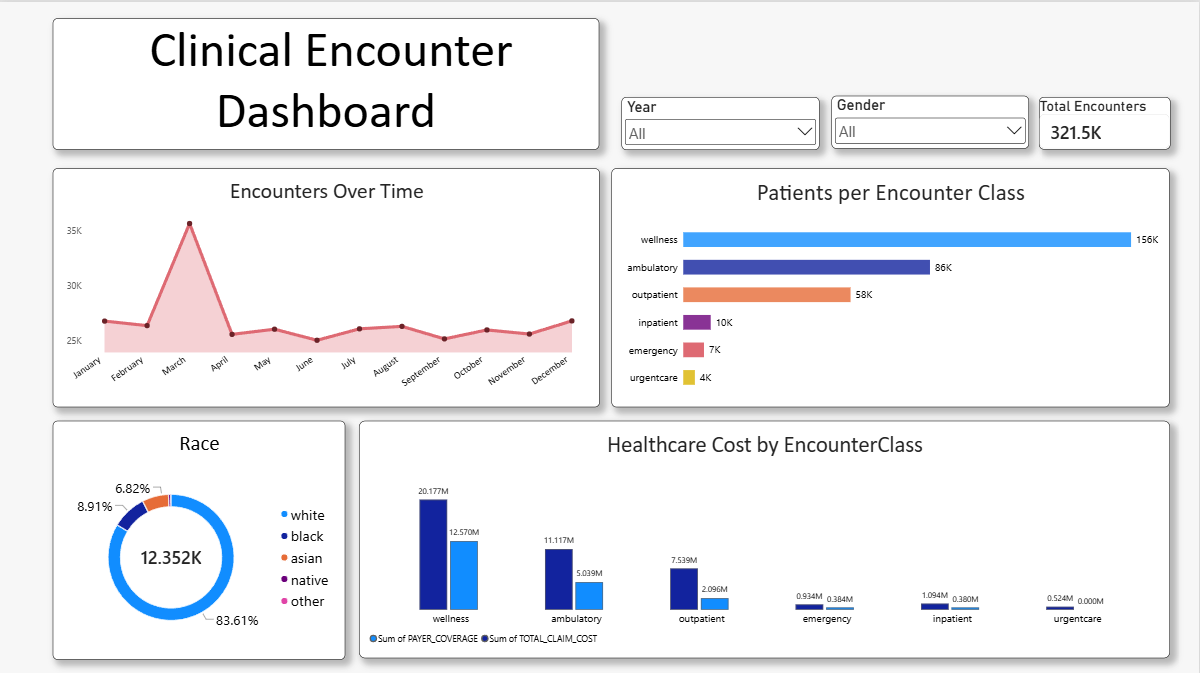

The page's visual inventory and layout, read from the dashboard file:
{"tool":"powerbi","page":{"name":"Page 1","canvas":[1920,1080],"ordinal":0},"visuals":[{"type":"donutChart","title":"Race","fields":{"Category":["patients.RACE"],"Y":["CountNonNull(patients.Id)"]},"box":[85,670,468,382],"z":0},{"type":"clusteredBarChart","title":"Patients per Encounter Class","fields":{"Category":["encounters.ENCOUNTERCLASS"],"Y":["CountNonNull(encounters.Id)"]},"box":[980,265,892.5,382.5],"z":1000},{"type":"slicer","title":"Year","fields":{"Values":["encounters.START.Variation.Date Hierarchy.Year"]},"box":[995.5,152,317,84.8],"z":2000},{"type":"lineChart","title":"Encounters Over Time","fields":{"Category":["encounters.START.Variation.Date Hierarchy.Month"],"Y":["CountNonNull(encounters.START)"]},"box":[85,265,875,382.5],"z":3000},{"type":"slicer","fields":{"Values":["patients.GENDER"]},"box":[1331.7,149.9,316.2,84.6],"z":4000},{"type":"clusteredColumnChart","title":"Healthcare Cost by EncounterClass","fields":{"Category":["encounters.ENCOUNTERCLASS"],"Y":["Sum(encounters.PAYER_COVERAGE)","Sum(encounters.TOTAL_CLAIM_COST)"]},"box":[575,670,1297.5,380],"z":5000},{"type":"cardVisual","title":"Total Encounters","fields":{"Data":["Count(encounters.Id)"]},"box":[1663.5,152,210,84.3],"z":6000},{"type":"textbox","box":[85.6,26.7,874.4,210],"z":7000}]}

Visuals, with their boxes in screenshot pixels (x1, y1, x2, y2), scaled from the page's 1920x1080 canvas onto the 1200x673 screenshot:
"Race" donutChart: 53, 418, 346, 656
"Patients per Encounter Class" clusteredBarChart: 612, 165, 1170, 403
"Year" slicer: 622, 95, 820, 148
"Encounters Over Time" lineChart: 53, 165, 600, 403
slicer - patients.GENDER: 832, 93, 1030, 146
"Healthcare Cost by EncounterClass" clusteredColumnChart: 359, 418, 1170, 654
"Total Encounters" cardVisual: 1040, 95, 1171, 147
textbox: 54, 17, 600, 147
